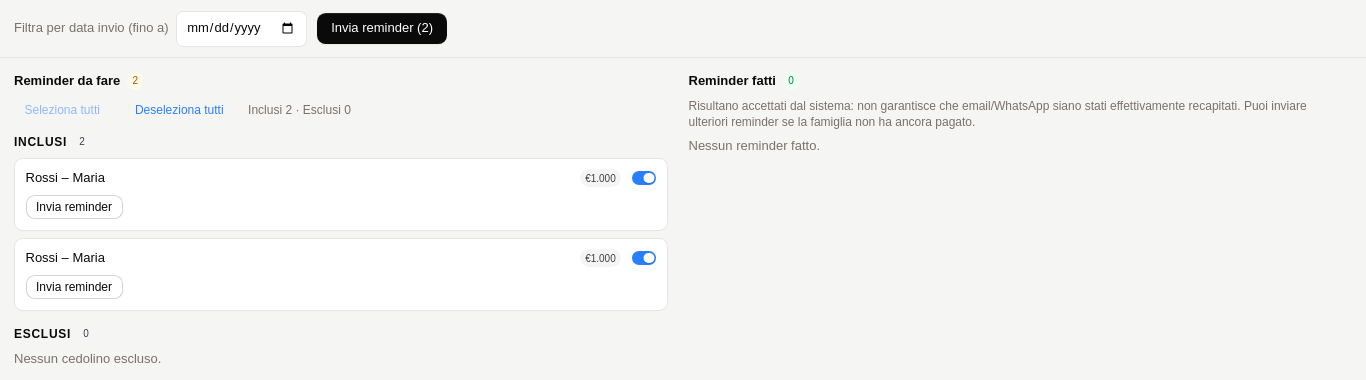
Scenario: CedoliniPagamentiView — reminder da fare/fatti + bulk (U6) › BAZ-180: Deseleziona tutti svuota il bulk e disabilita Invia reminder
Click the button with test id "cedolini-pagamenti-deselect-all". click: (179, 110)
box: x1=124 y1=98 x2=234 y2=122
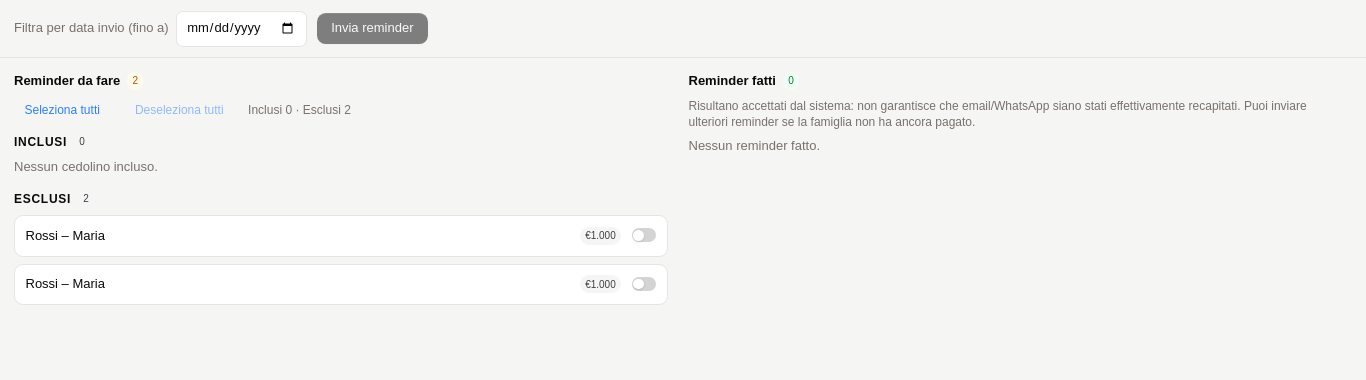
Result: the text with test id "cedolini-pagamenti-selection-summary" shows "Inclusi 0" at x1=248 y1=102 x2=351 y2=118
Result: the button with test id "cedolini-pagamenti-reminder-invia" is disabled at x1=317 y1=13 x2=428 y2=44
